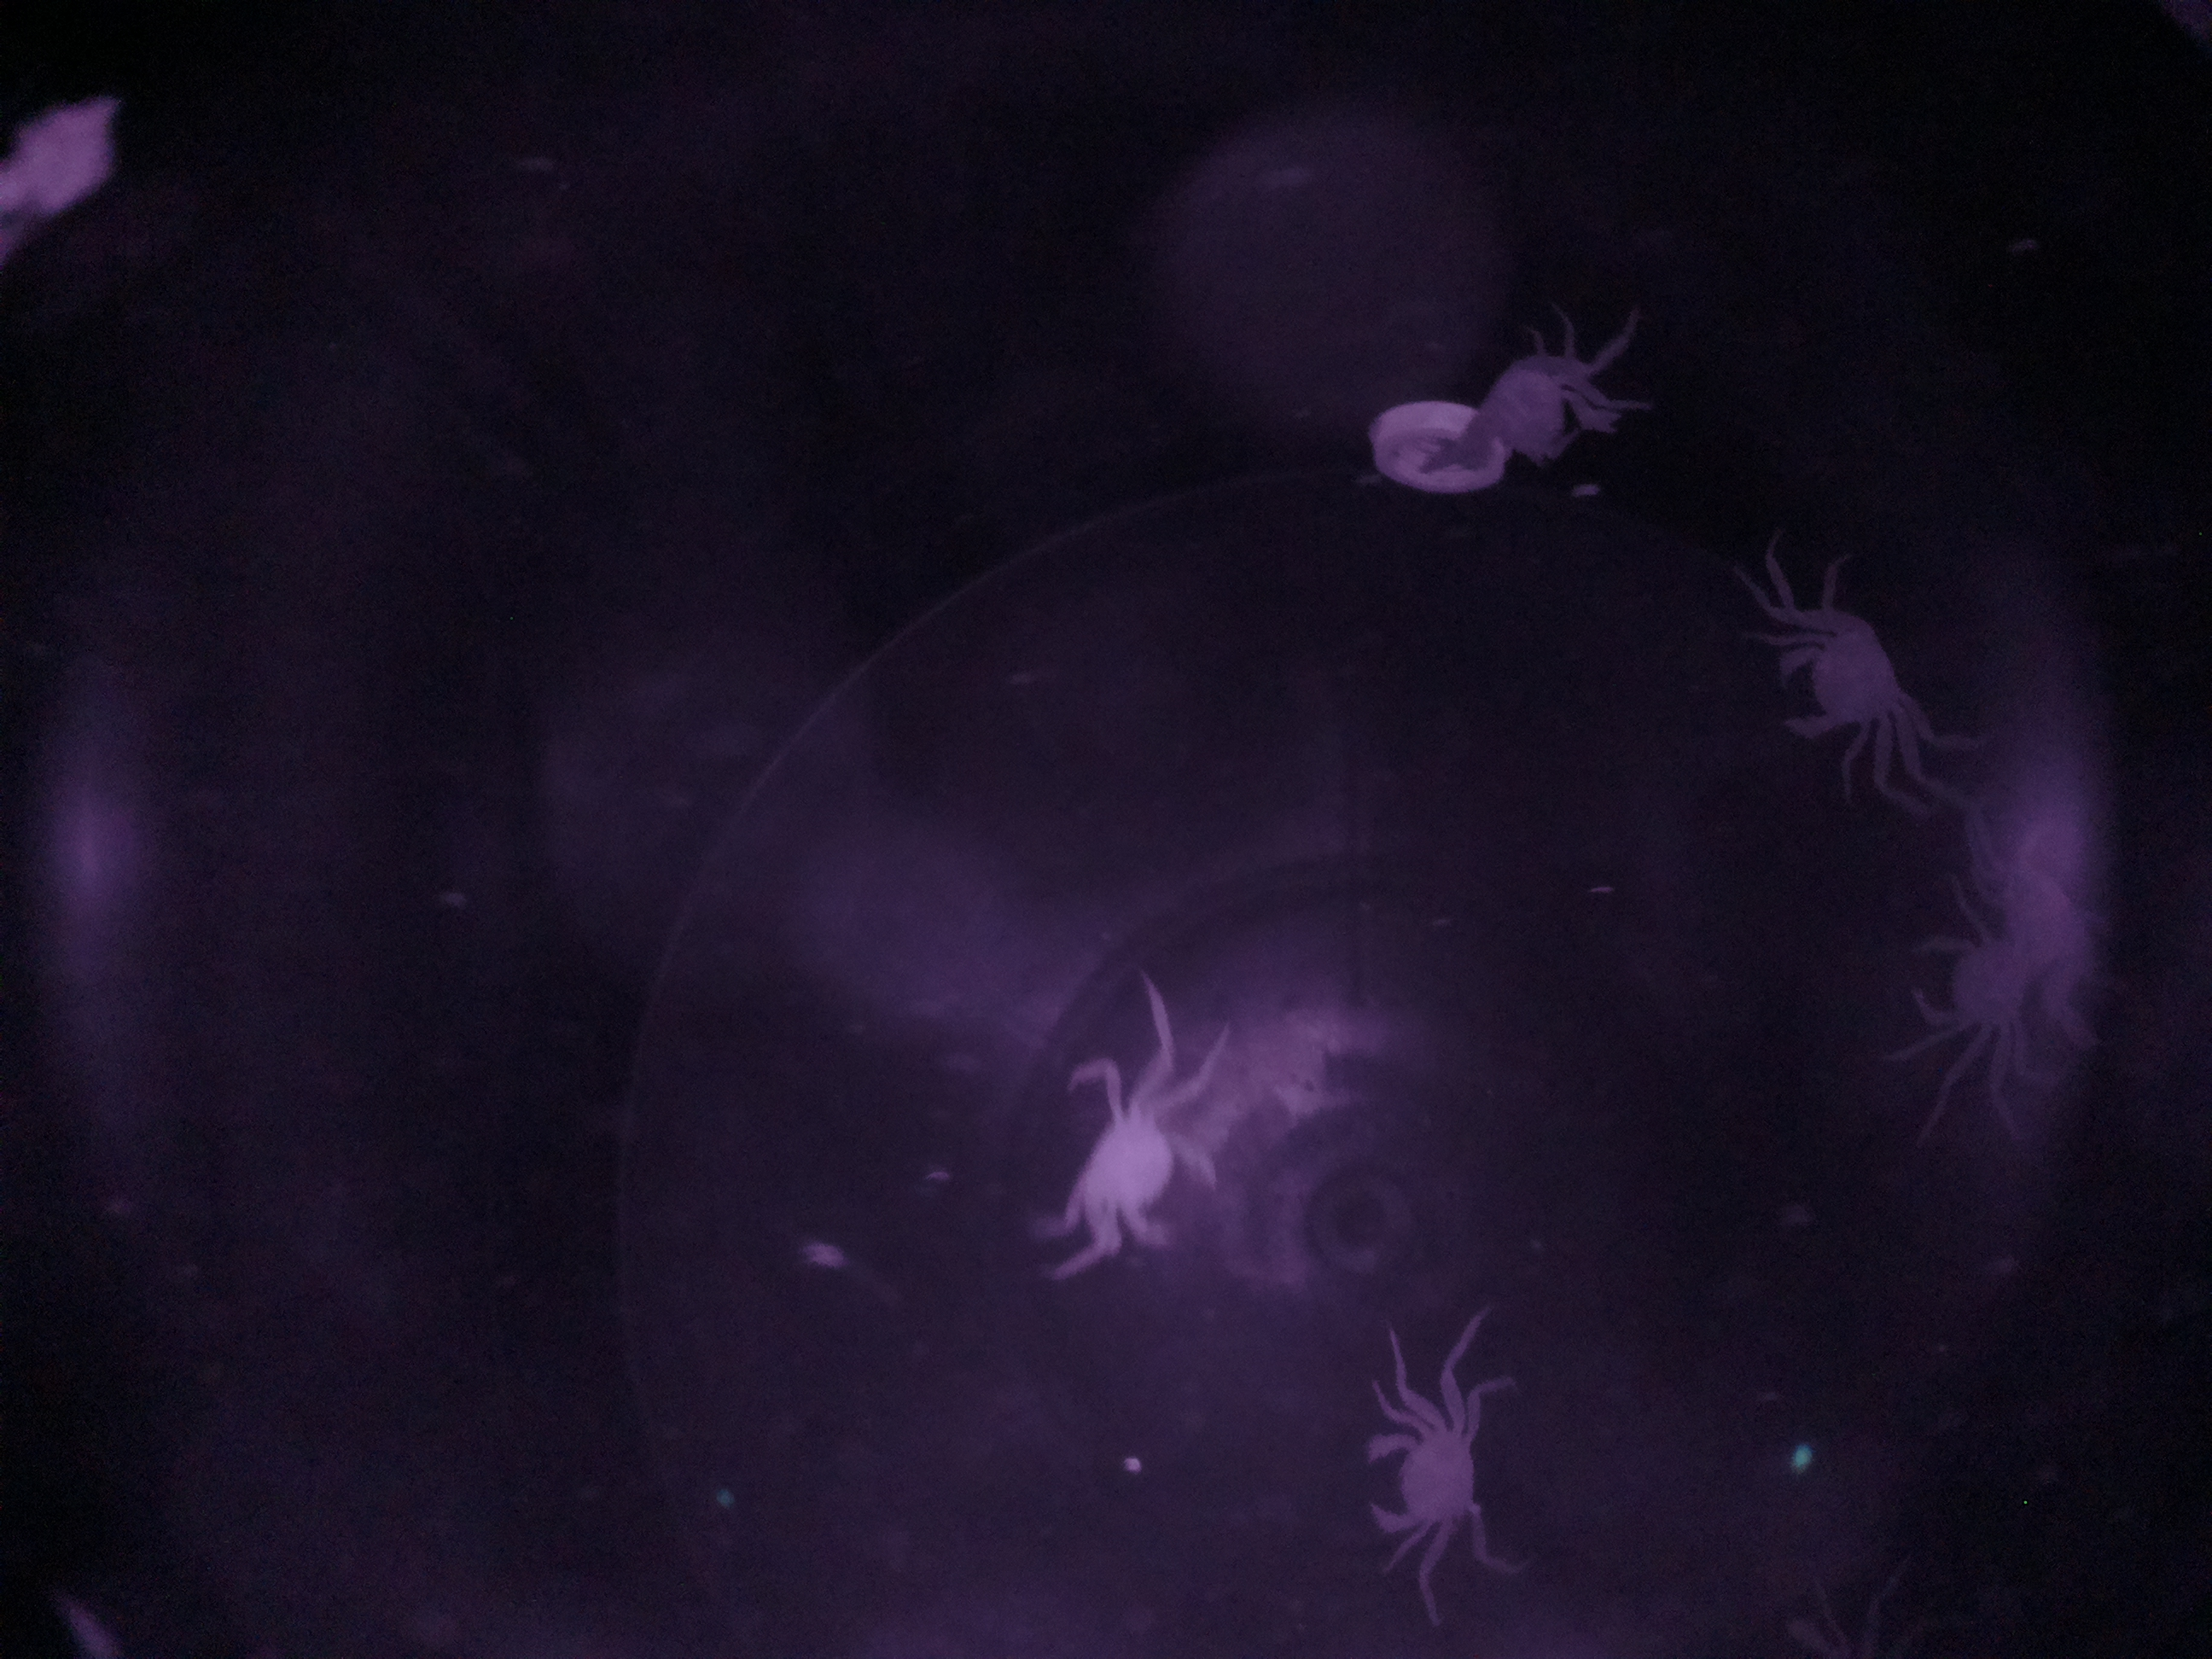Crab: (1731, 594, 1947, 786), (1346, 1373, 1510, 1574)
